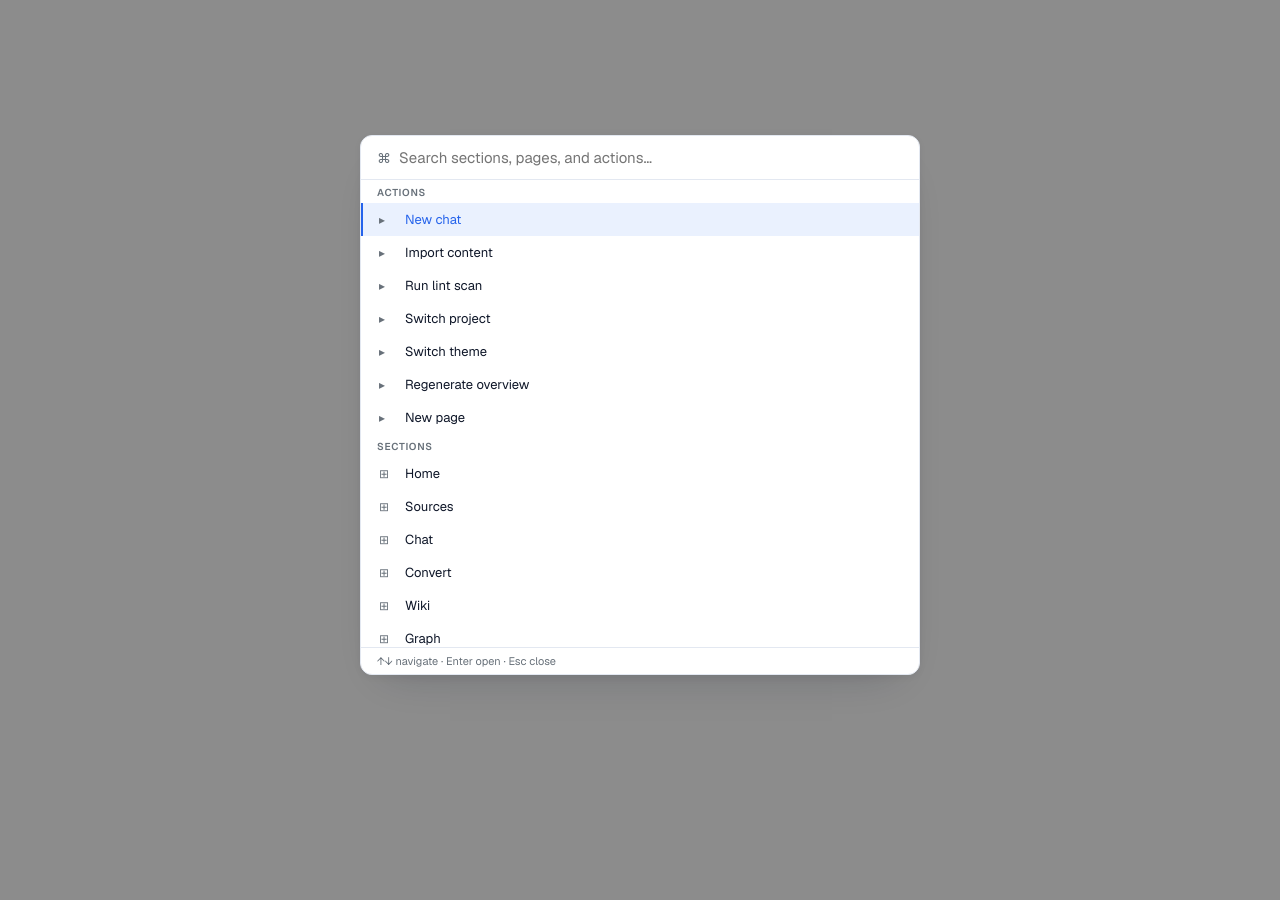
Test: CommandPalette — section list › filters sections by substring (case-insensitive)
The width and height of the screenshot is (1280, 900).
Type "set" into the dropdown with test id "palette-input" at (651, 158), box [399, 148, 903, 167]
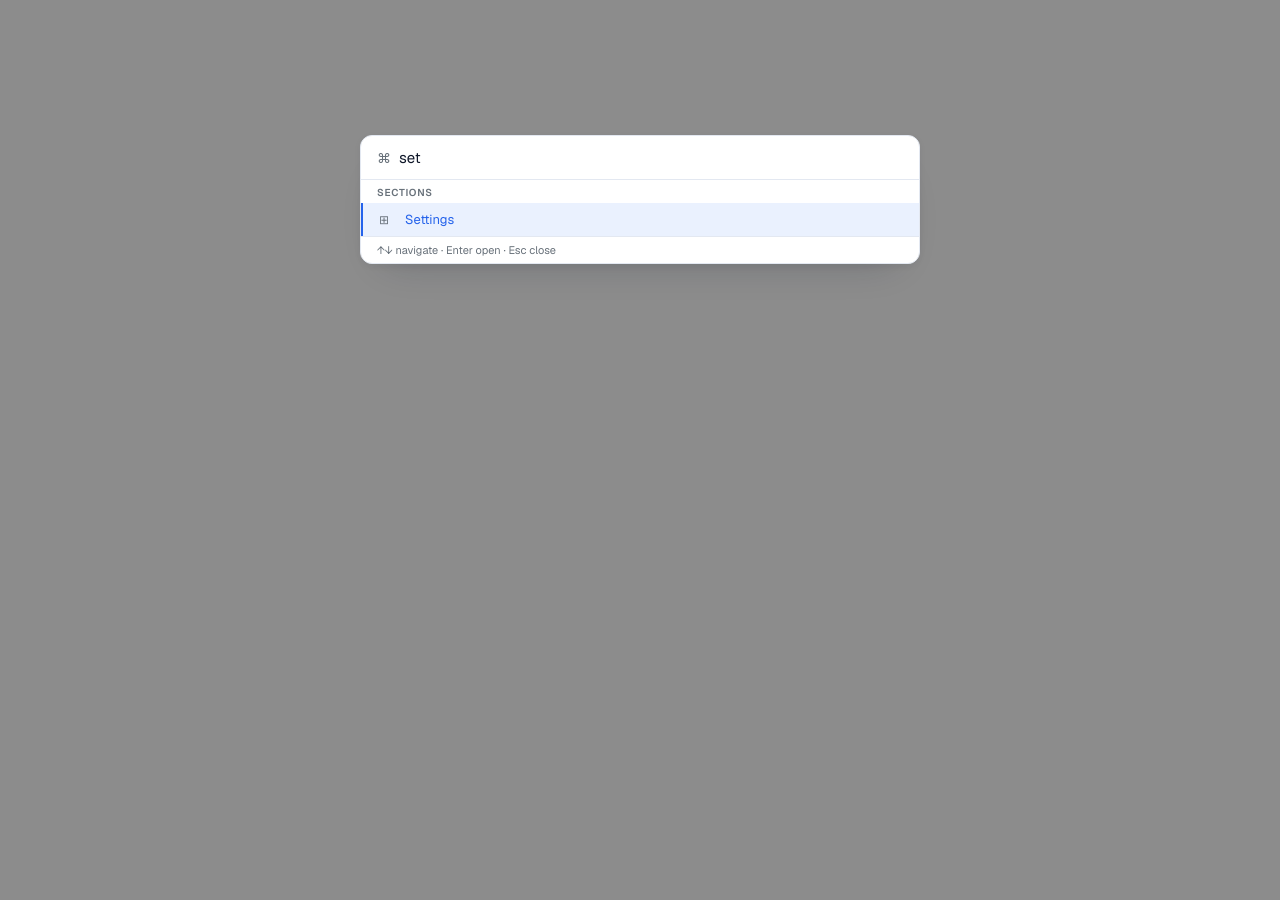
Now the number of options is 1, box [361, 203, 919, 236]
Now the option shows "Settings", box [361, 203, 919, 236]
